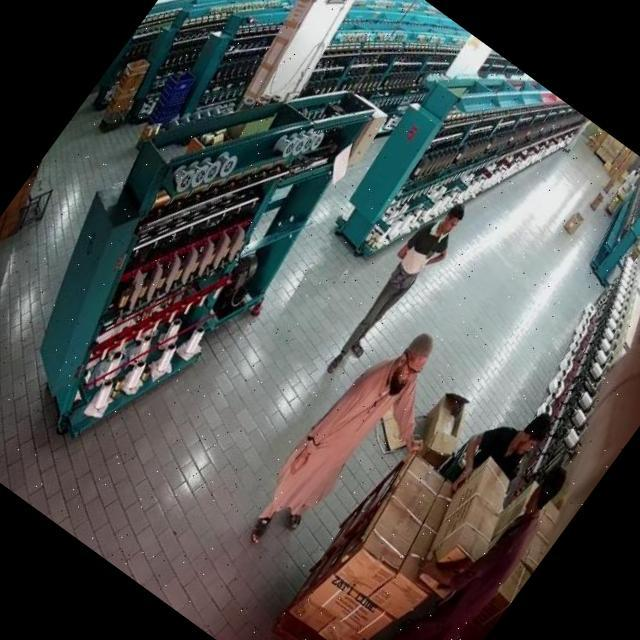person: (232, 307, 454, 578), (322, 192, 472, 384), (440, 388, 562, 528), (599, 161, 640, 224)
